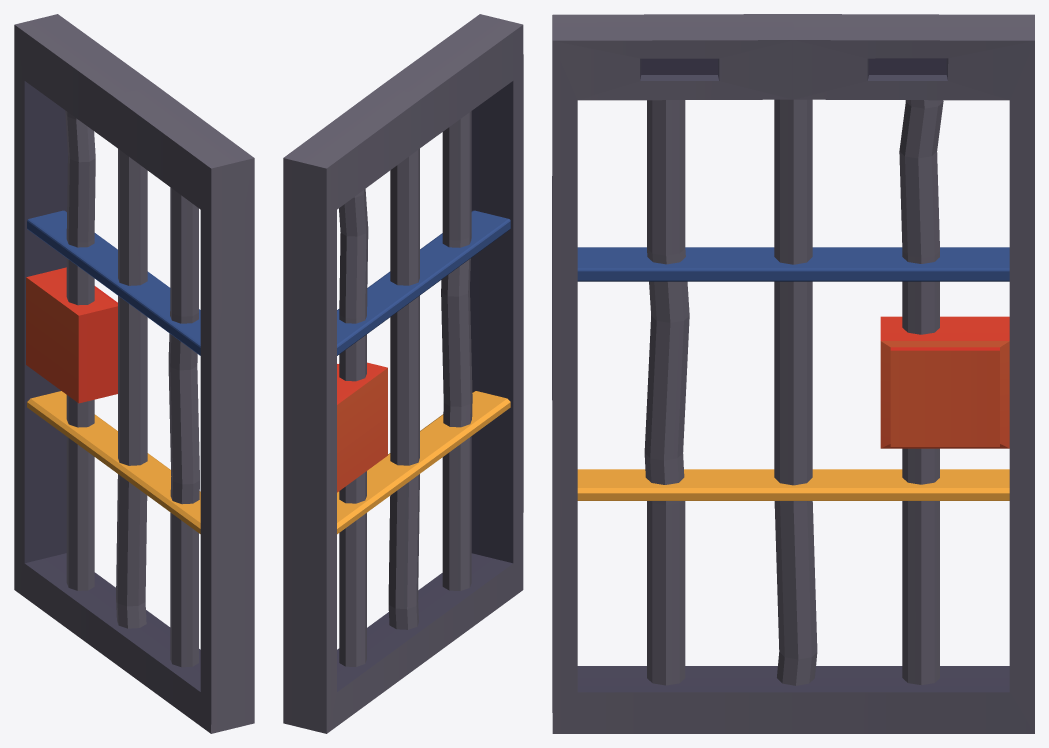
Rendered from prison cell door.fbx.
3 renders of one model, left to right at view 1: azimuth 30°, elevation 25°; view 2: azimuth 150°, elevation 25°; view 3: azimuth 270°, elevation 25°, orthographic. The views are drawn at different scales.
Parts seen in each view (by area): view 1: jail_door; view 2: jail_door; view 3: jail_door.
Boxes of the visible parts, x1,y1,x2,y2 form: jail_door: (14, 14, 254, 733); jail_door: (283, 14, 523, 733); jail_door: (552, 14, 1034, 733).
Size of the model in its own units: 0.7088 by 7.82 by 4.93.
Materials: 1 (1 with a texture image).
